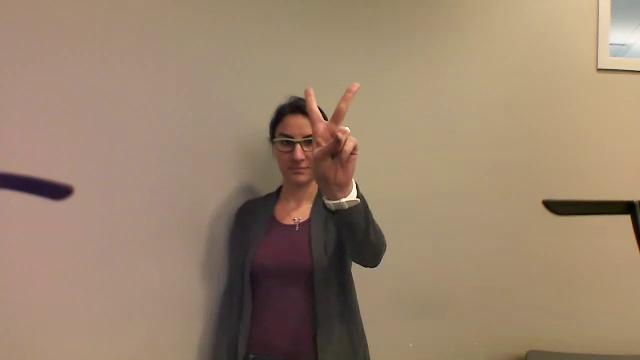peace: (302, 82, 368, 192)
